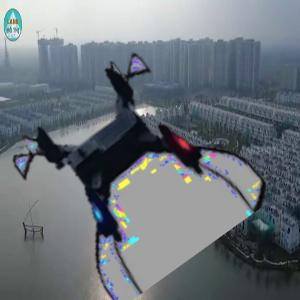drone: (25, 65, 238, 278)
